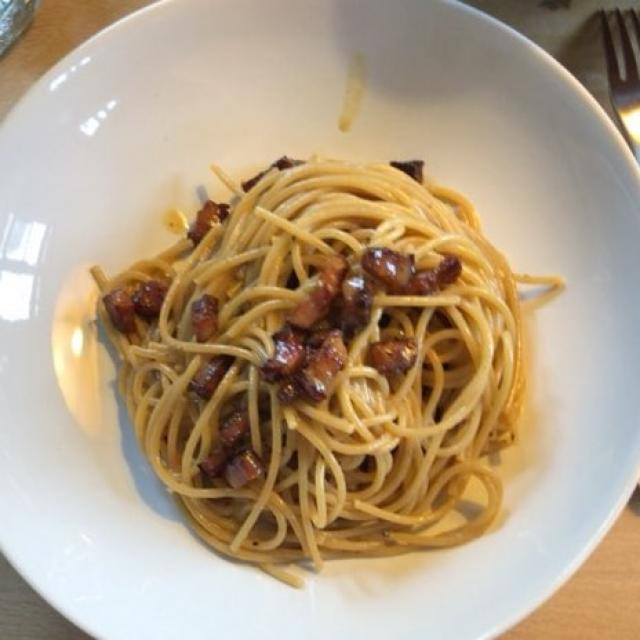pasta-spaghetti: (79, 158, 530, 569)
